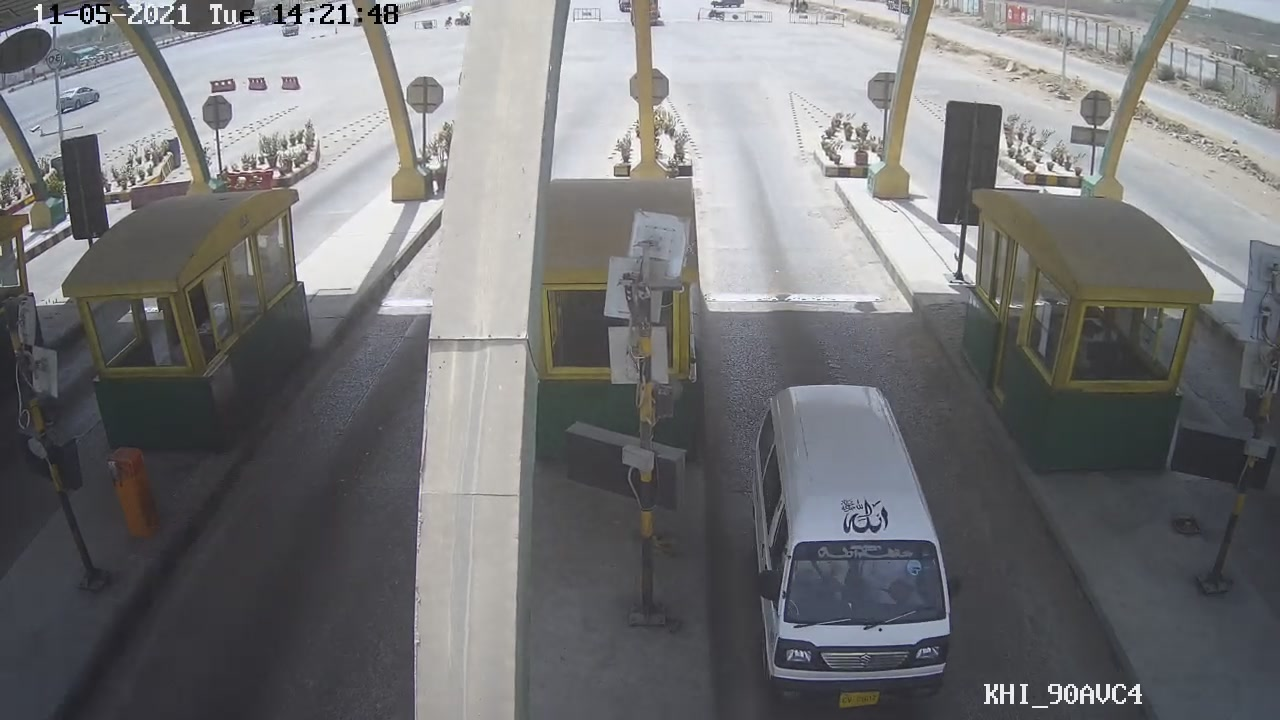F1: (748, 390, 964, 713)
